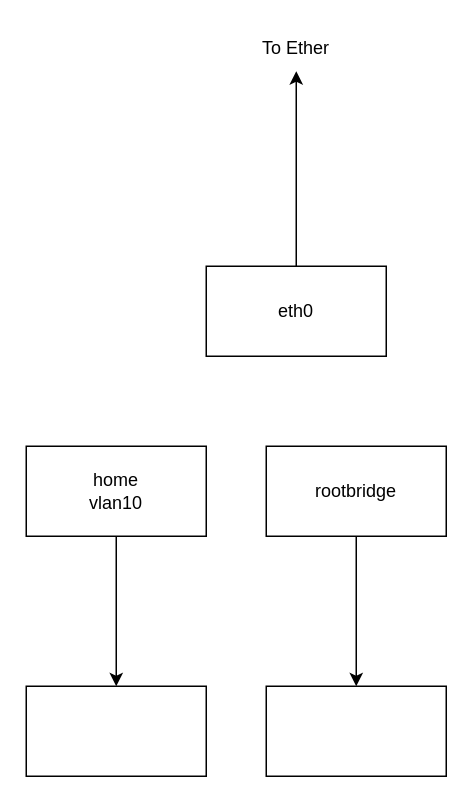
Image size: 473x803. Some labels were removed from this diagram. Each missing label, with the centre of its shape:
home-bridge: the point at 115,730
root-bridge: the point at 355,730
